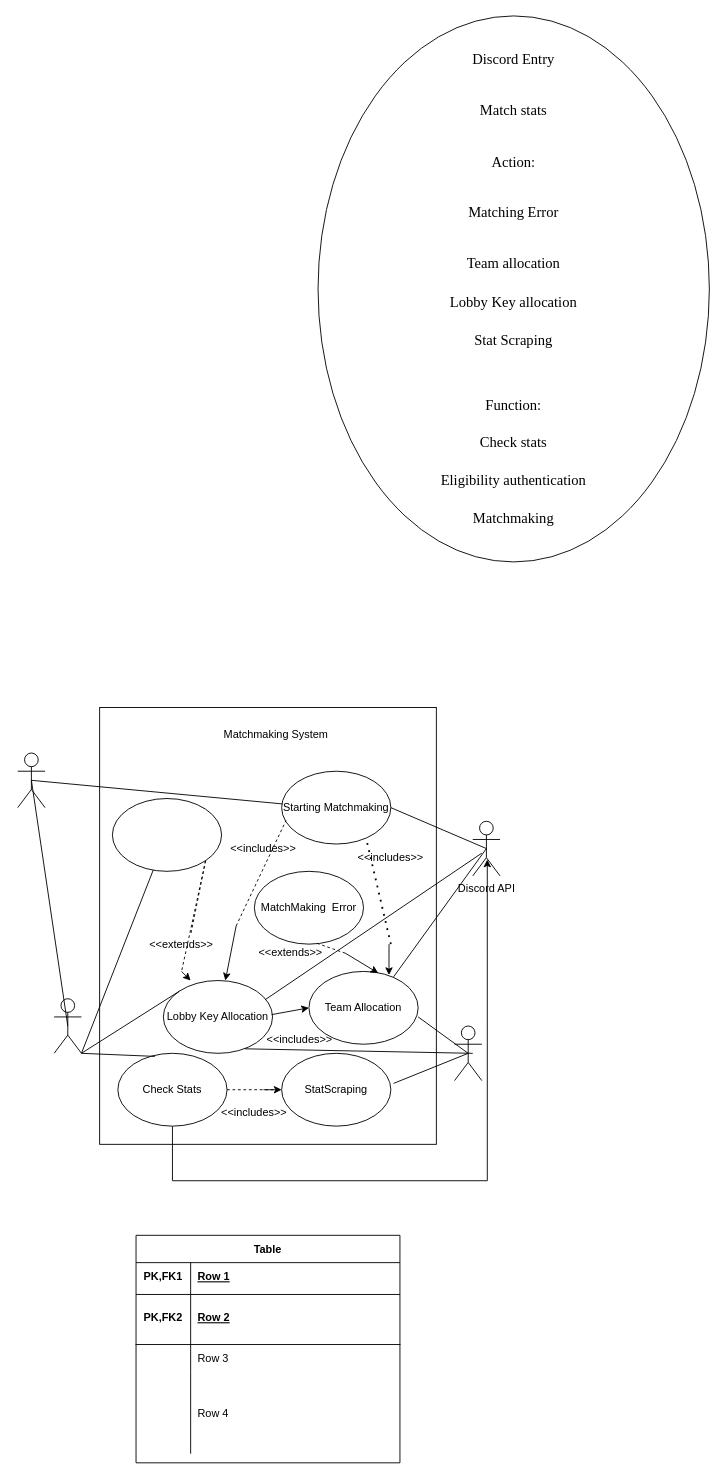
Some shapes in this 725 by 1479 pixel diagram are drawn without their labels. Each missing label, with the centre of its shape:
"Coach" goes at point 67,1025.
"Player" goes at point 31,780.
"RIOT API" goes at point 468,1053.
"spectate" goes at point 166,834.
